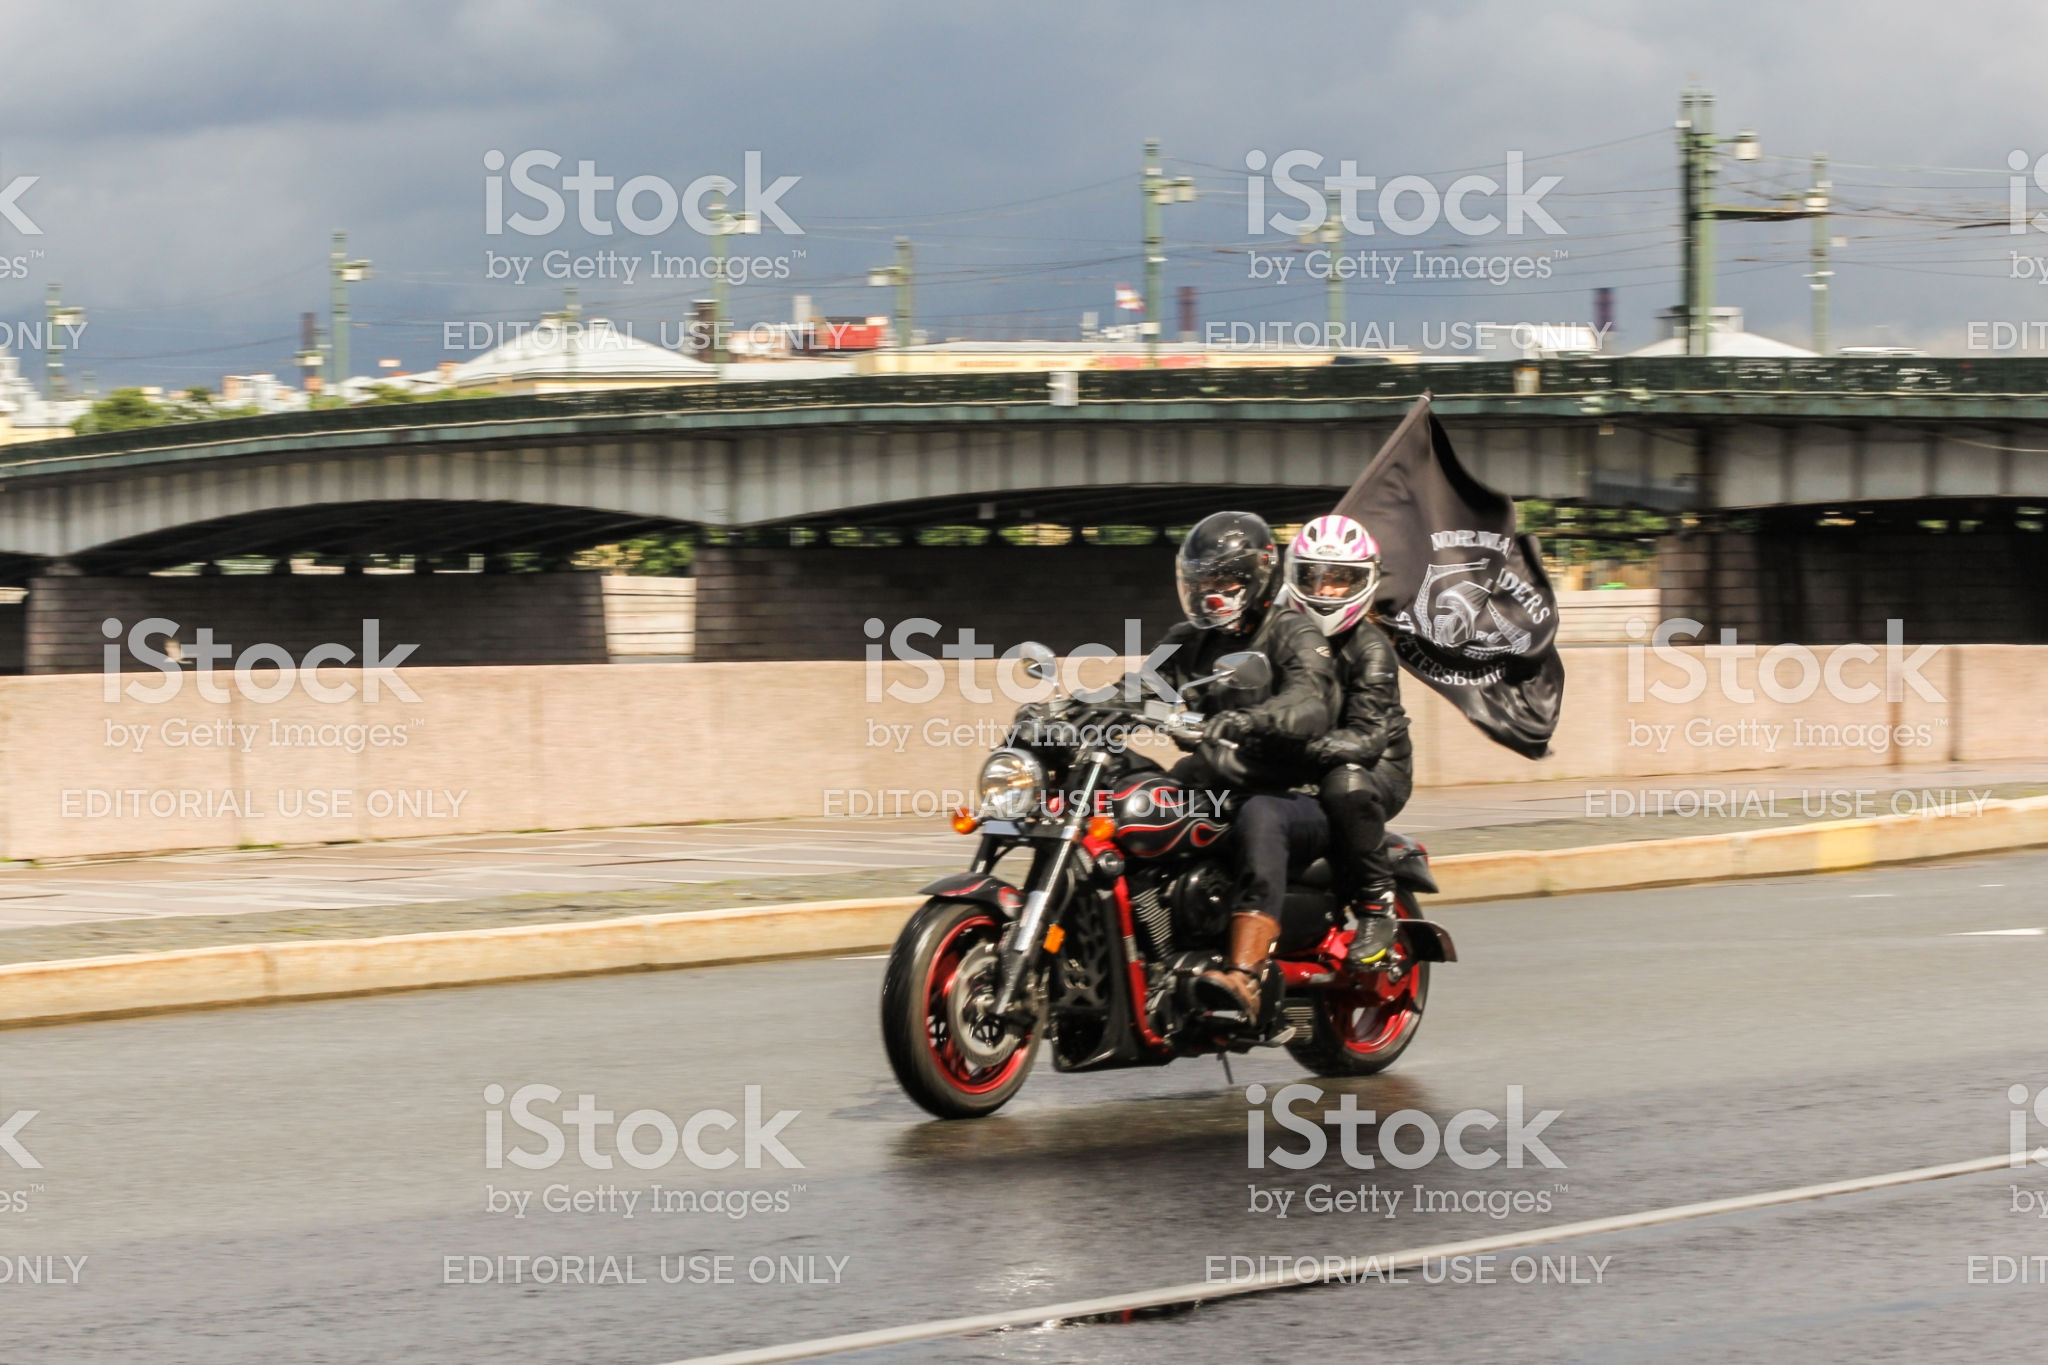helmet: (1278, 510, 1390, 617), (1179, 487, 1261, 593)
